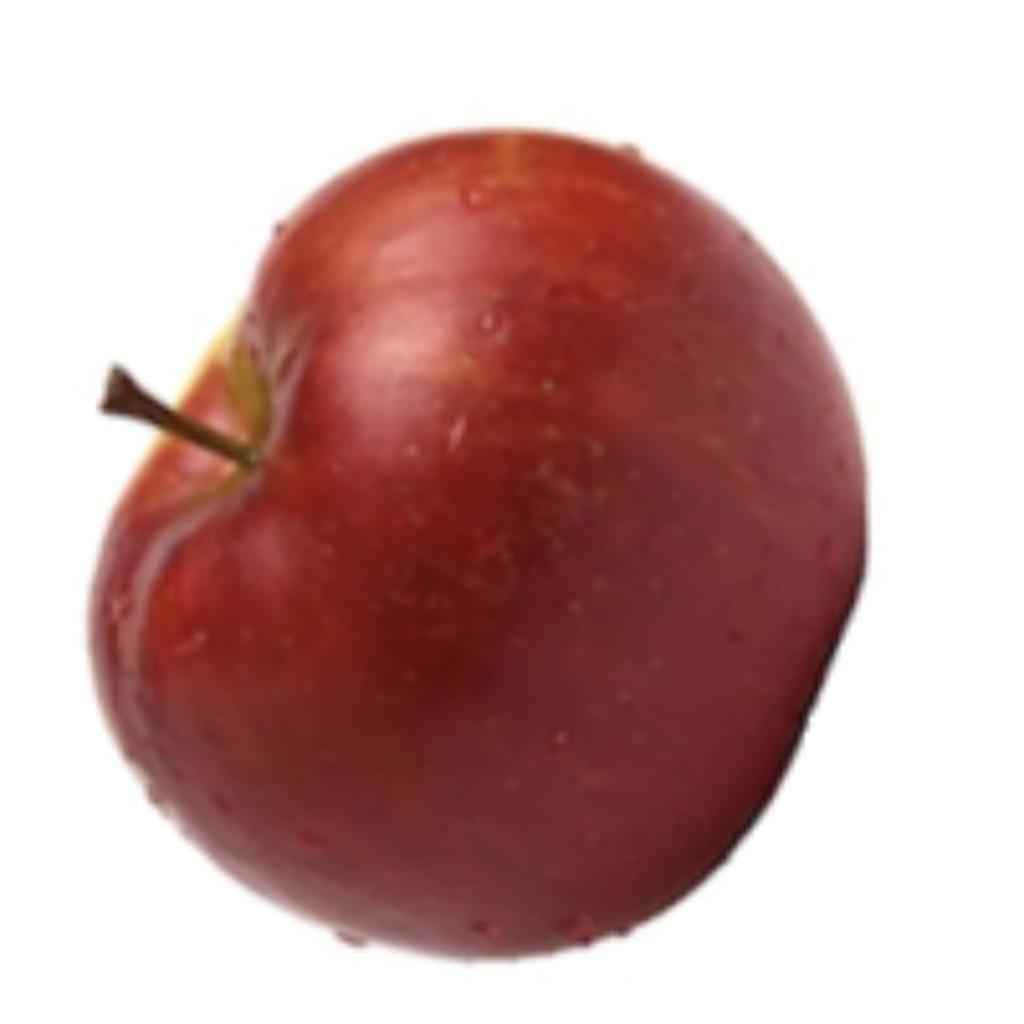apple: (77, 118, 876, 968)
